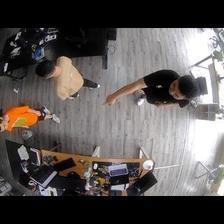normal: (102, 72, 196, 111), (35, 56, 100, 99), (1, 105, 61, 134)
